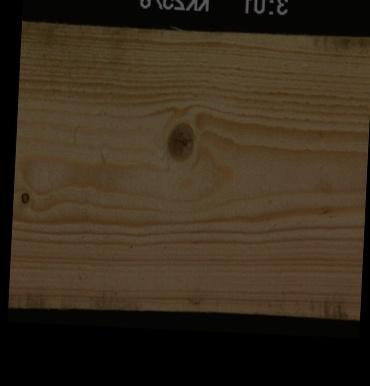dry_knot: (18, 187, 31, 204)
sound_knot: (163, 120, 196, 160)
